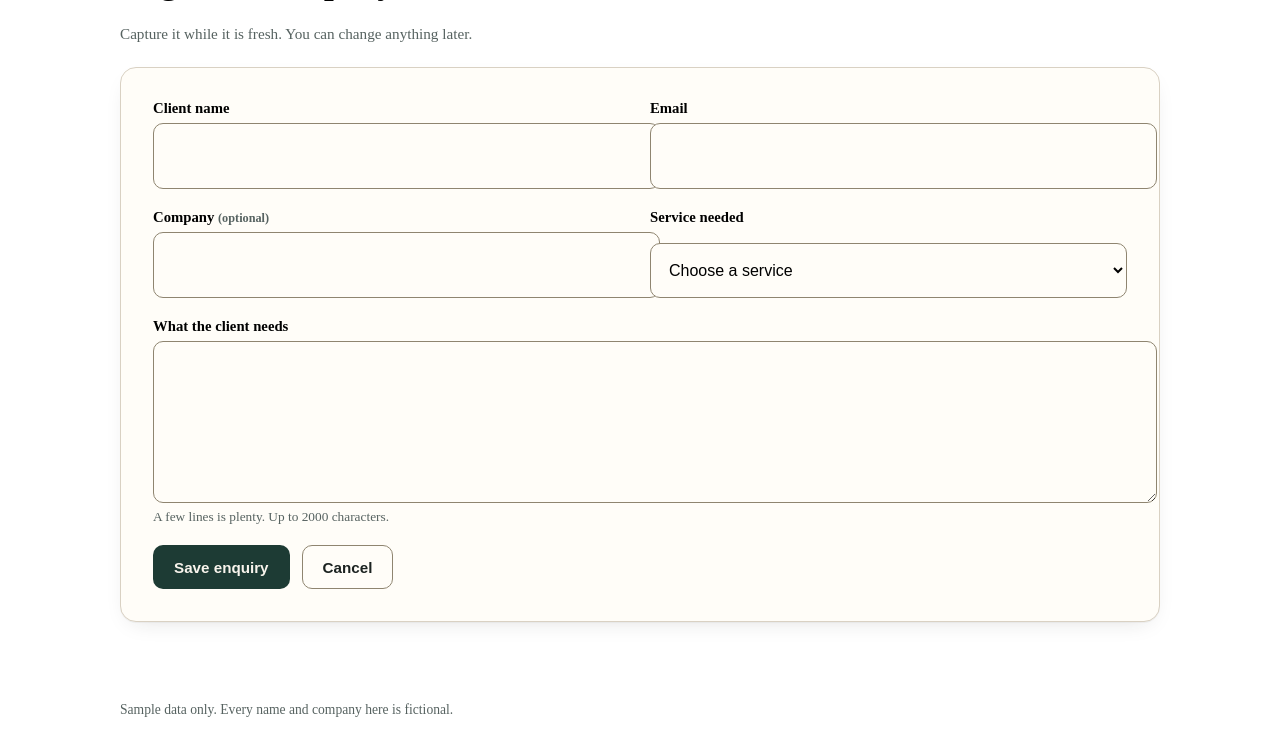
Test case: new enquiry form › lists every problem in a summary the user can jump from
The image size is (1280, 729).
(page scrolled)
Click the button "Save enquiry". click: (221, 567)
box: [153,545,290,589]
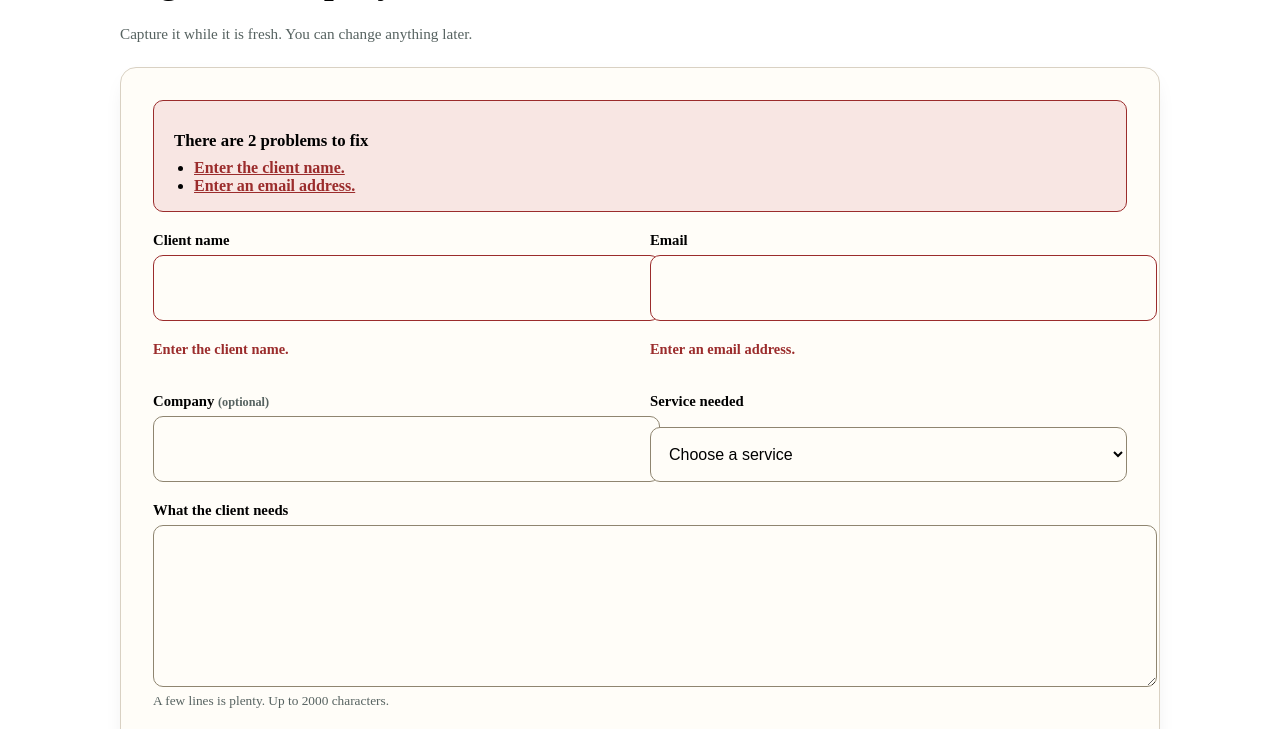
Expected: the message shows "There are 2 problems to fix", [153,100,1127,212]
